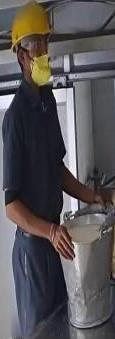hard-hat: (9, 0, 51, 52)
